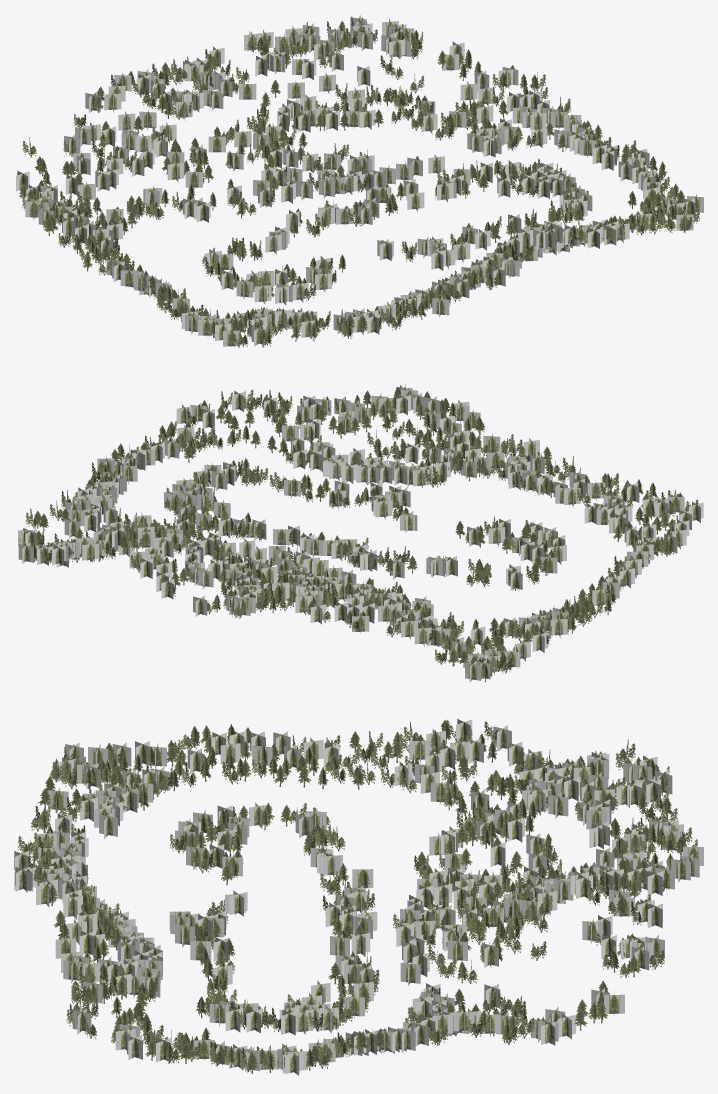
Rendered from Pine_Imposter.fbx.
The picture shows the model from 3 angles, top to bottom: view 1: azimuth 30°, elevation 25°; view 2: azimuth 150°, elevation 25°; view 3: azimuth 270°, elevation 25°; orthographic projection. The views are drawn at different scales.
Visible parts, largest first — view 1: Pine_Imposter; view 2: Pine_Imposter; view 3: Pine_Imposter.
Boxes of the visible parts, bbox=[...] form: Pine_Imposter: bbox=[16, 15, 703, 347]; Pine_Imposter: bbox=[18, 384, 703, 682]; Pine_Imposter: bbox=[14, 719, 703, 1075].
Size of the model in its own units: 192590 by 31140 by 173451.
